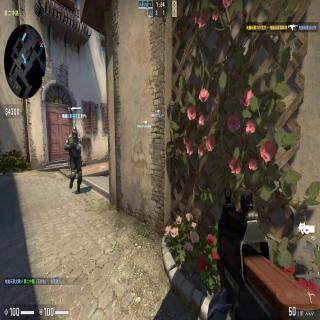CT-Body: (63, 128, 83, 192)
CT-Head: (71, 126, 78, 140)
